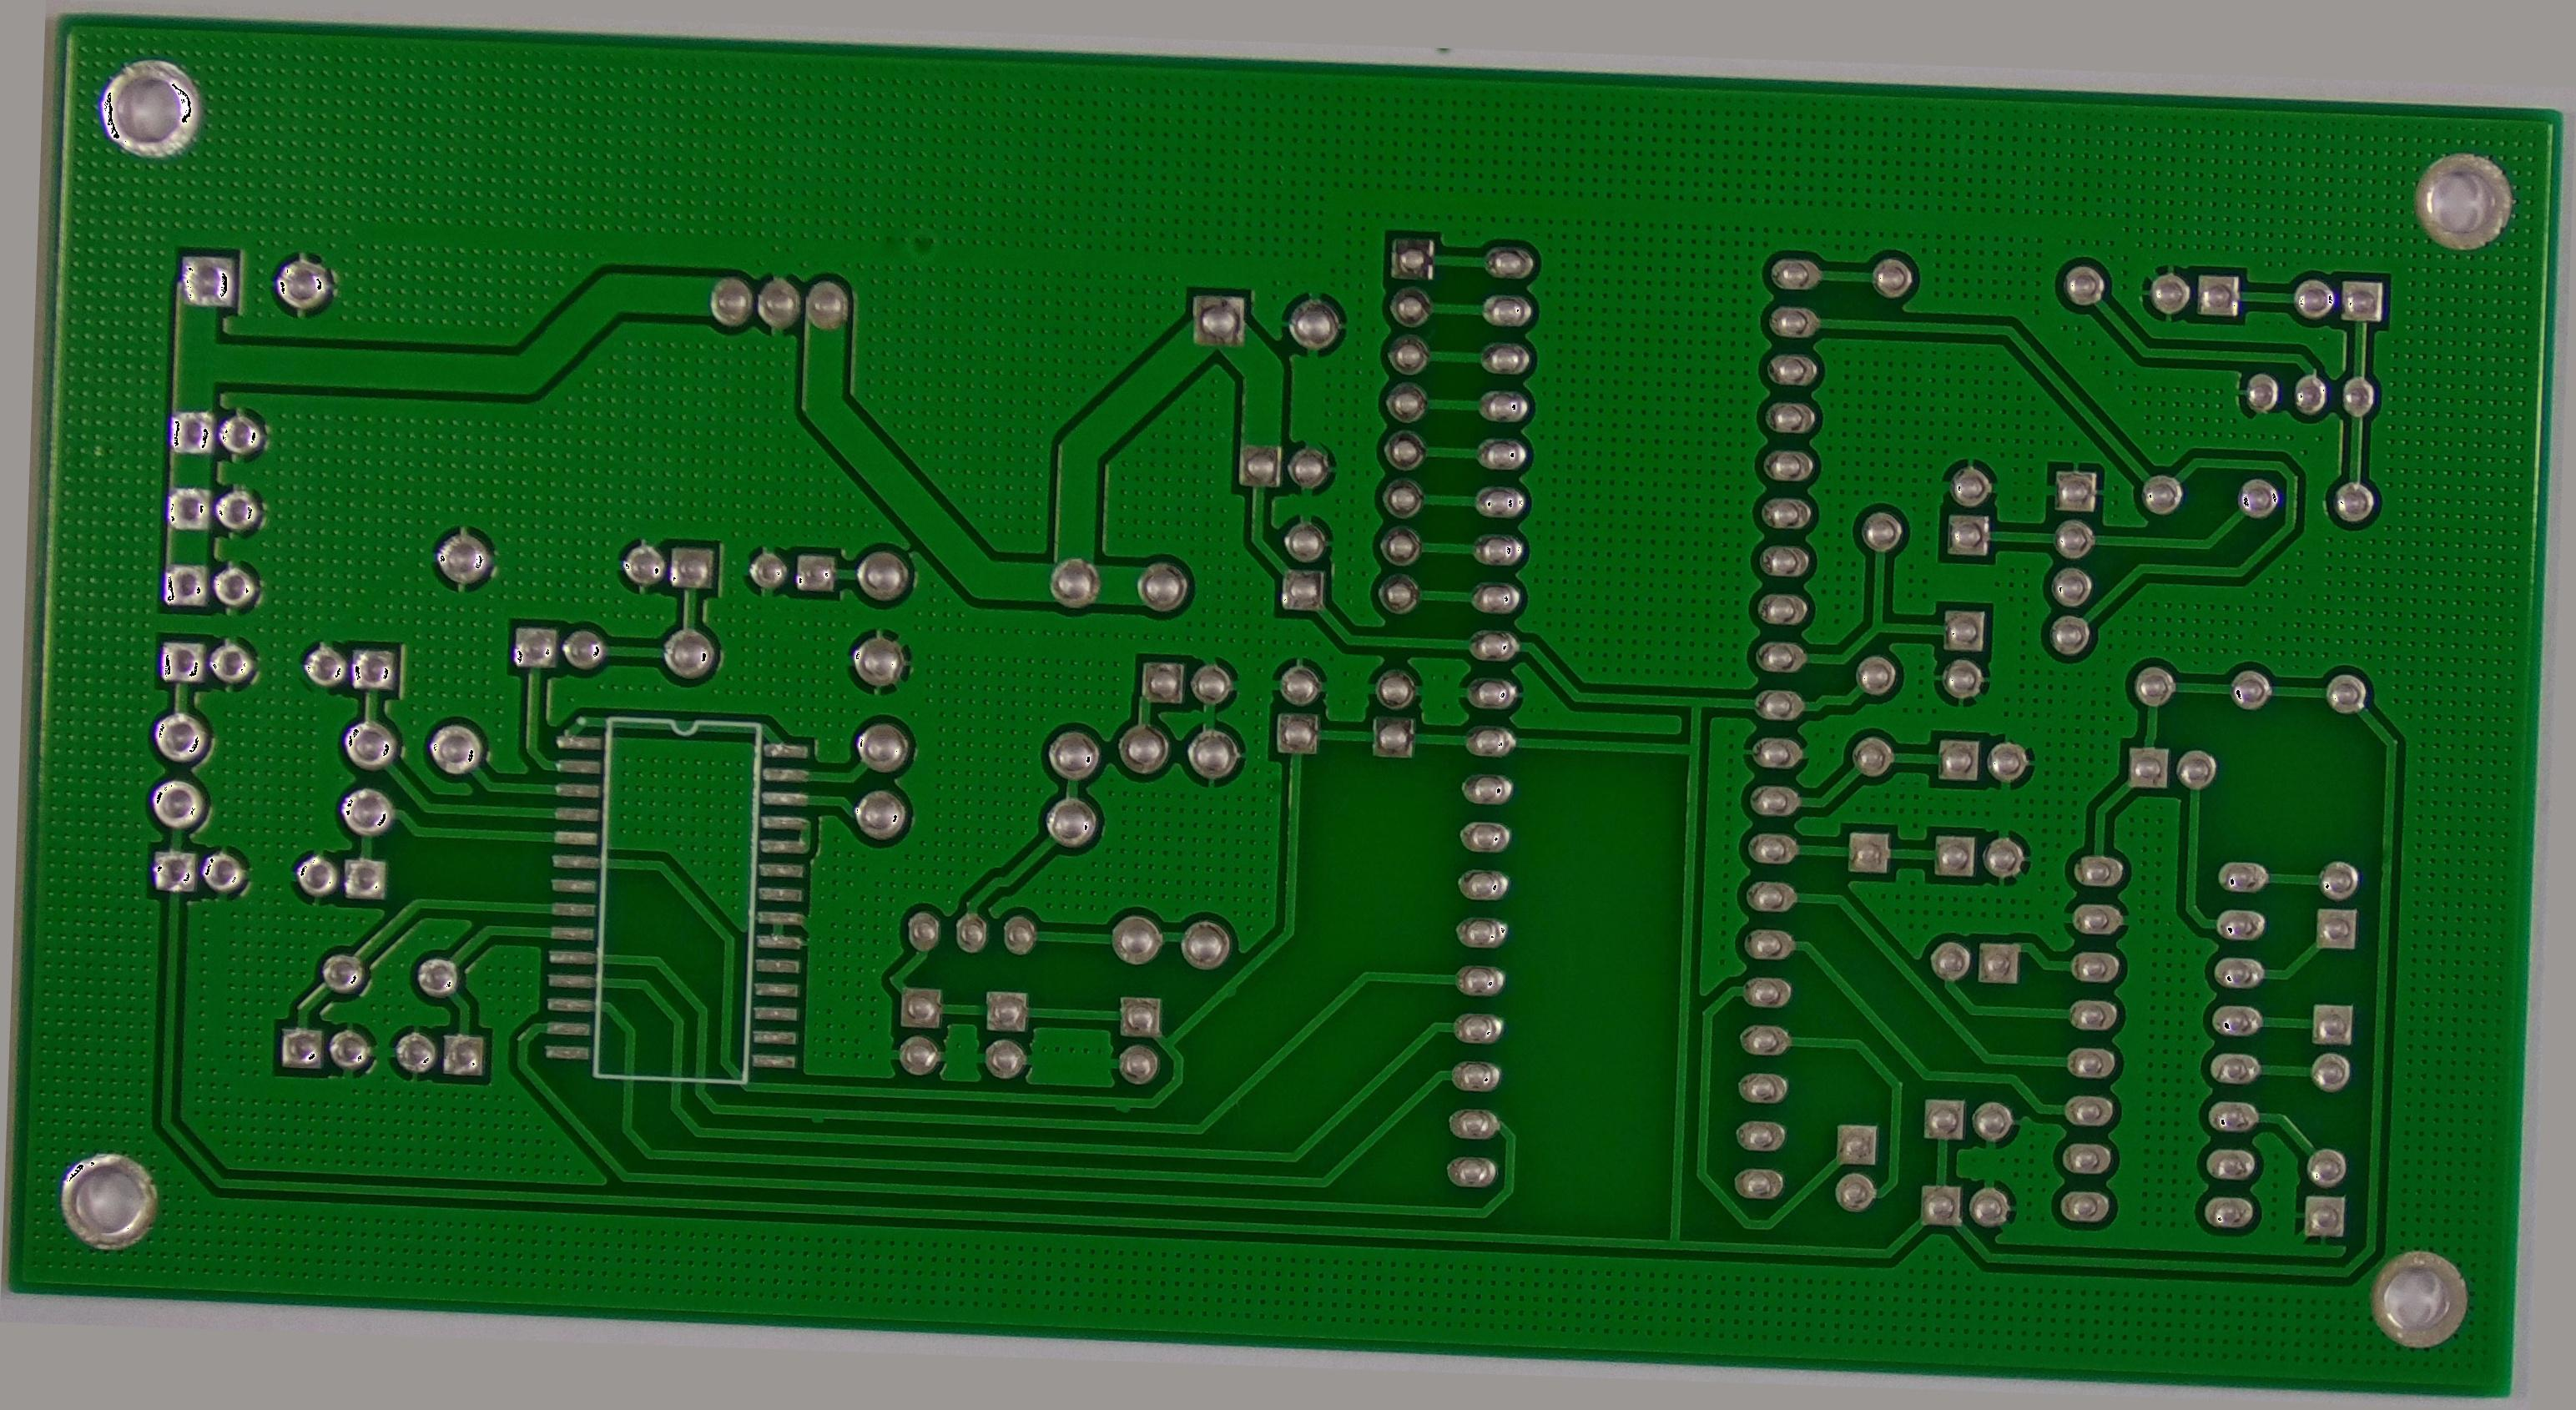spur: (1106, 1090, 1137, 1118), (800, 1103, 830, 1130), (1215, 978, 1241, 1005)
